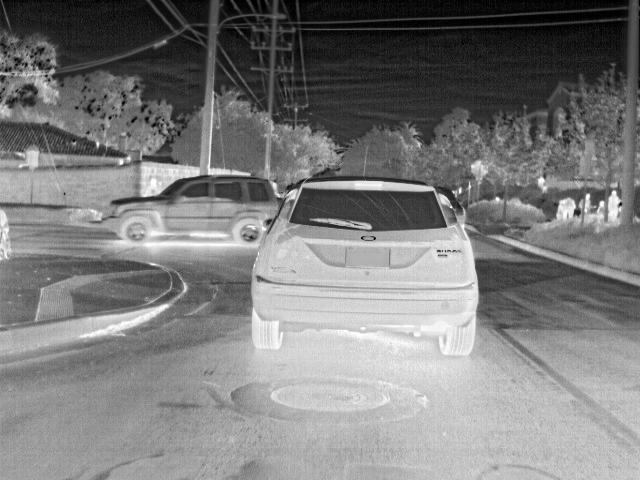car: (251, 177, 479, 359), (112, 173, 283, 243), (434, 183, 469, 228)
person: (608, 189, 621, 223), (146, 175, 161, 198), (563, 194, 576, 220), (580, 192, 592, 218), (555, 199, 567, 219), (598, 199, 608, 218)
